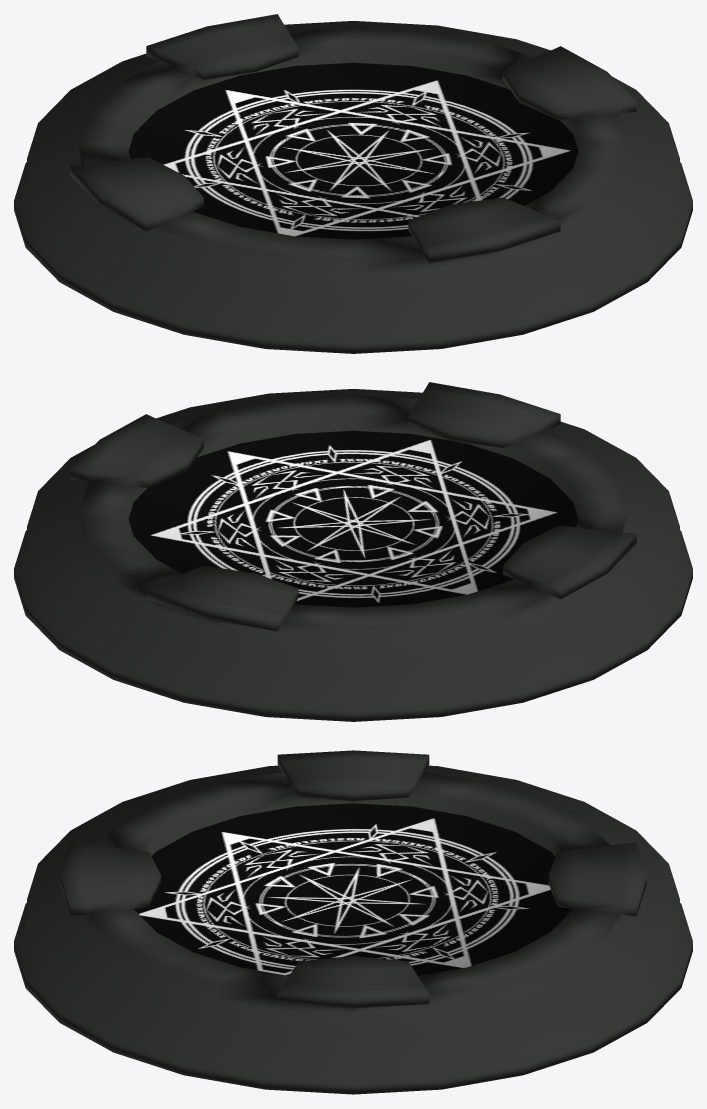
Rendered from Spawn MC.fbx.
3 renders of one model, top to bottom at view 1: azimuth 30°, elevation 25°; view 2: azimuth 150°, elevation 25°; view 3: azimuth 270°, elevation 25°, orthographic.
Visible parts, largest first — view 1: spawn mc; view 2: spawn mc; view 3: spawn mc.
Part boxes in pixels (x1,y1,x2,y2): spawn mc: [14, 14, 692, 353]; spawn mc: [14, 382, 692, 721]; spawn mc: [14, 750, 692, 1094].
Size of the model in its own units: 599 by 74.77 by 599.
